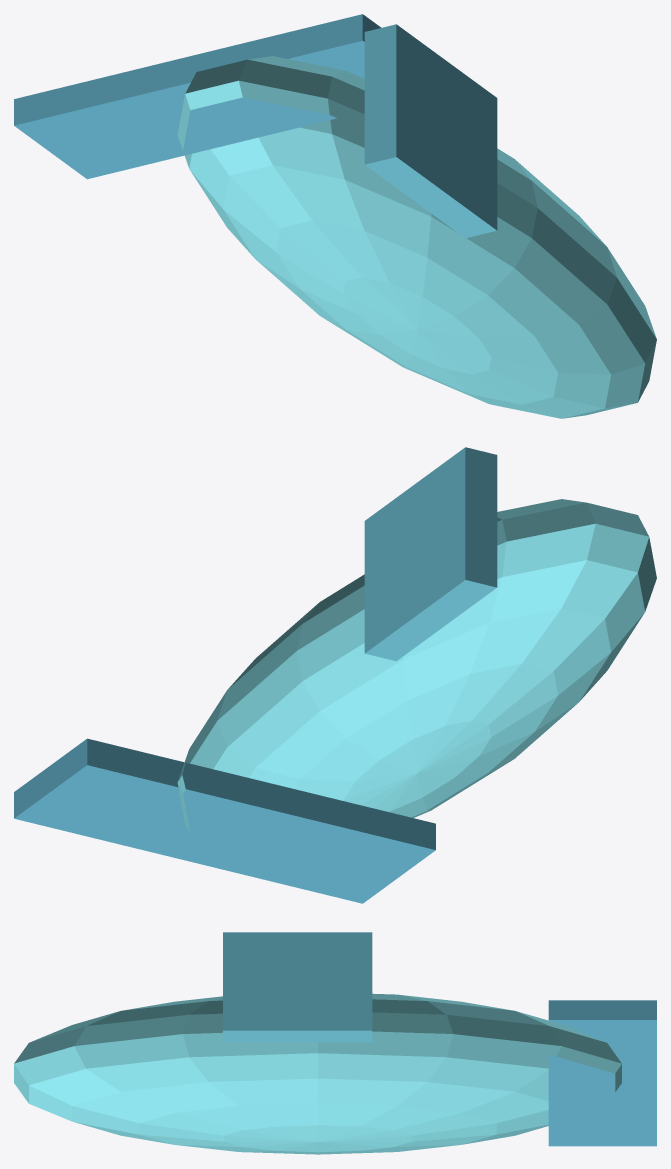
Rendered from creature.glb.
3 views of the same model, one above another, from view 1: azimuth 30°, elevation 25°; view 2: azimuth 150°, elevation 25°; view 3: azimuth 270°, elevation 25° (orthographic). The views are drawn at different scales.
Bounding box in the file's own units: 1.1 × 0.83 × 2.37.
